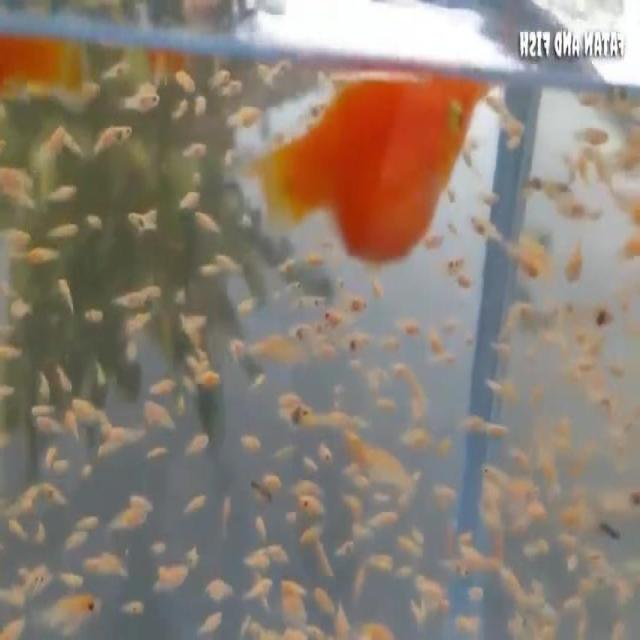PlatyFish: (244, 67, 495, 282)
